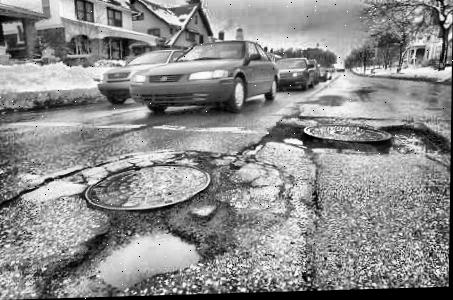pothole: (31, 197, 237, 298), (380, 123, 450, 163), (258, 119, 310, 153)
